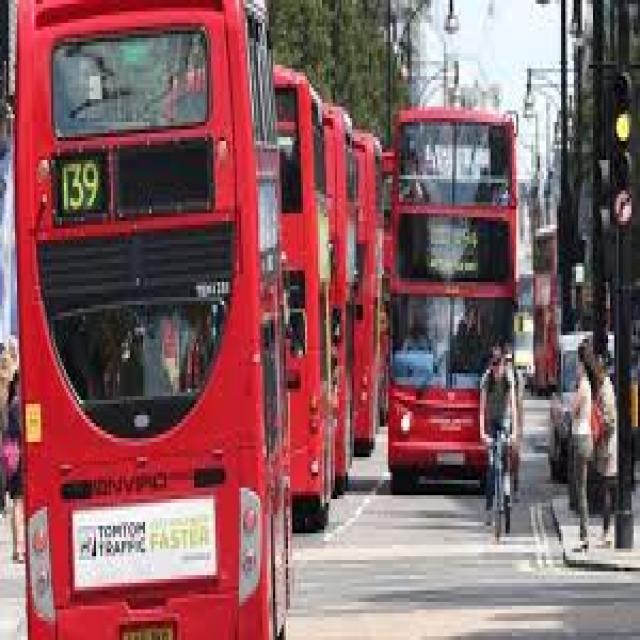bicycle: (493, 430, 508, 541)
bus: (16, 0, 288, 640), (388, 107, 514, 491), (273, 65, 333, 530), (320, 107, 354, 526), (352, 130, 382, 457)
person: (572, 347, 591, 549), (482, 347, 510, 442), (595, 362, 614, 495)
